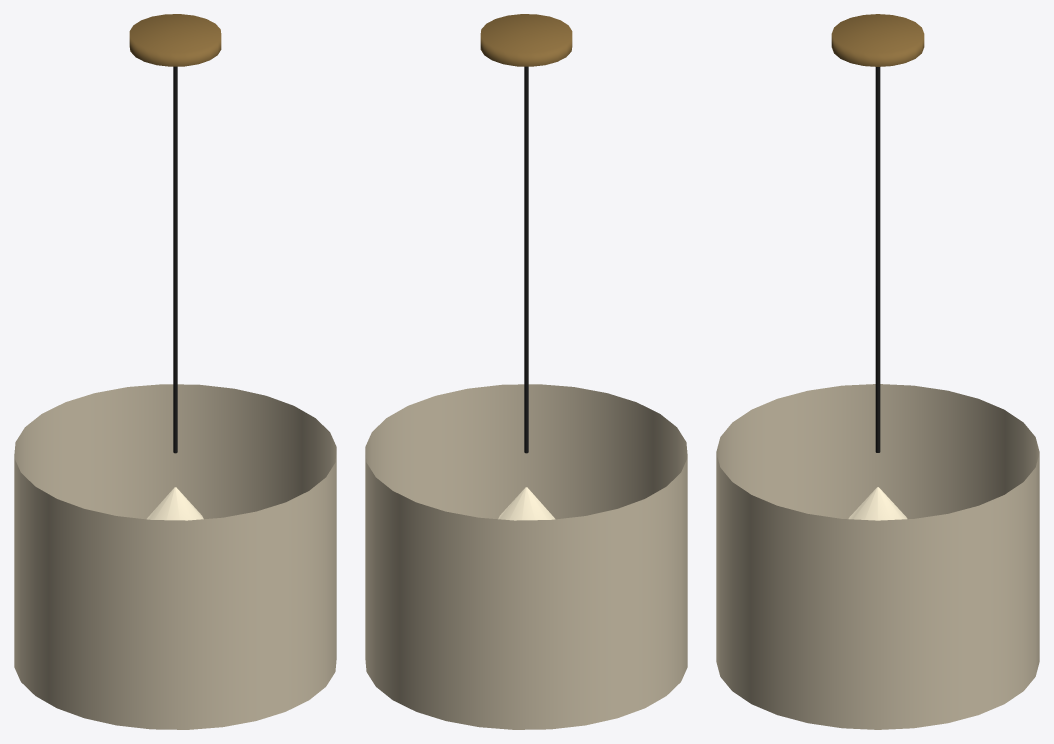
Rendered from BIB-PND-std.glb.
The picture shows the model from 3 angles, left to right: view 1: azimuth 30°, elevation 25°; view 2: azimuth 150°, elevation 25°; view 3: azimuth 270°, elevation 25°; orthographic projection.
Parts seen in each view (by area): view 1: BIB-PND-std; view 2: BIB-PND-std; view 3: BIB-PND-std.
Boxes of the visible parts, <box> form: BIB-PND-std: <box>14,14,336,729</box>; BIB-PND-std: <box>365,14,687,729</box>; BIB-PND-std: <box>716,14,1039,729</box>.
Bounding box in the file's own units: 0.42 × 0.9 × 0.42.
